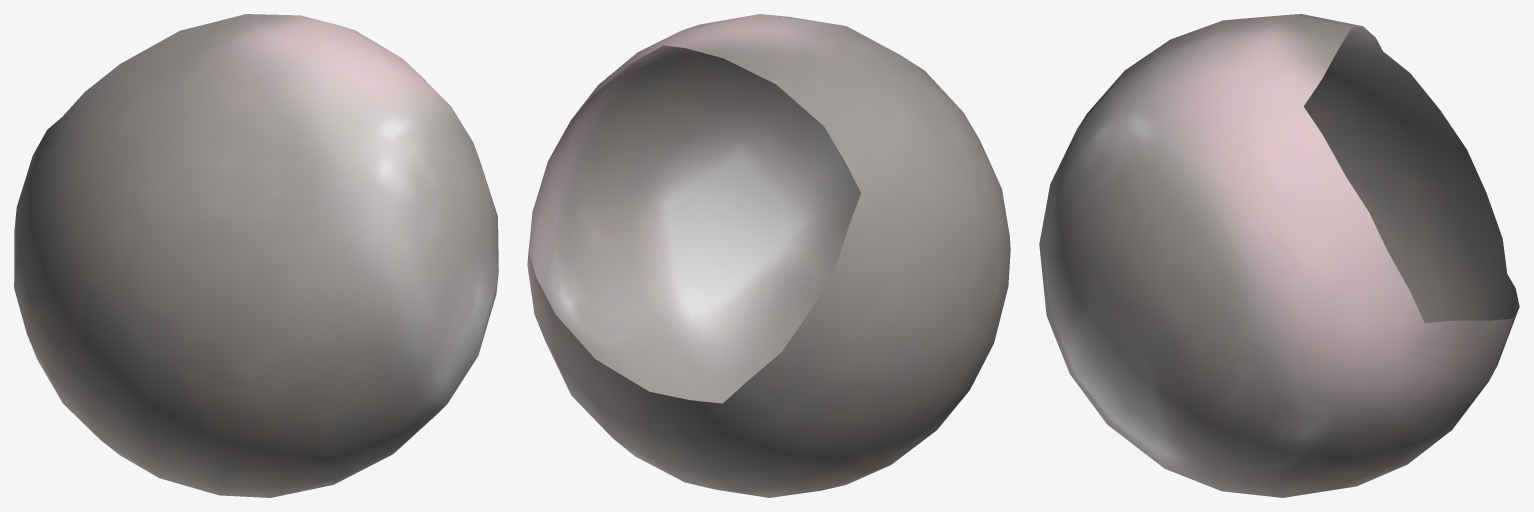
Rendered from pearl.obj.
3 renders of one model, left to right at view 1: azimuth 30°, elevation 25°; view 2: azimuth 150°, elevation 25°; view 3: azimuth 270°, elevation 25°, orthographic.
Visible parts, largest first — view 1: dynamic; view 2: dynamic; view 3: dynamic.
Part boxes in pixels (x1,y1,x2,y2): dynamic: (14,14,498,497); dynamic: (527,14,1010,497); dynamic: (1039,14,1519,497).
Size of the model in its own units: 12.16 by 12.22 by 12.1.
1 material, 1 textured.
